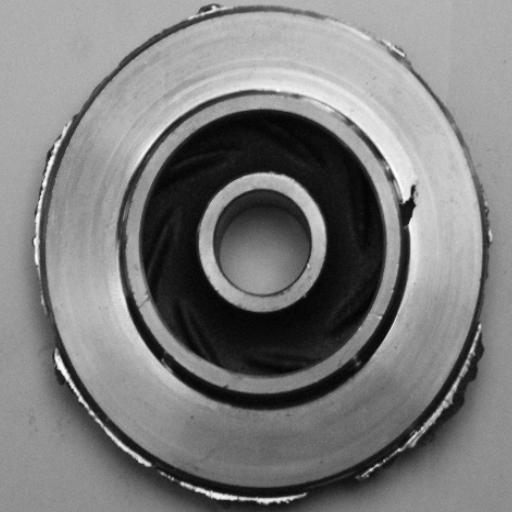casting_with_burr: (28, 0, 495, 512)
crack: (388, 162, 436, 257)
scratch: (268, 78, 365, 130)
